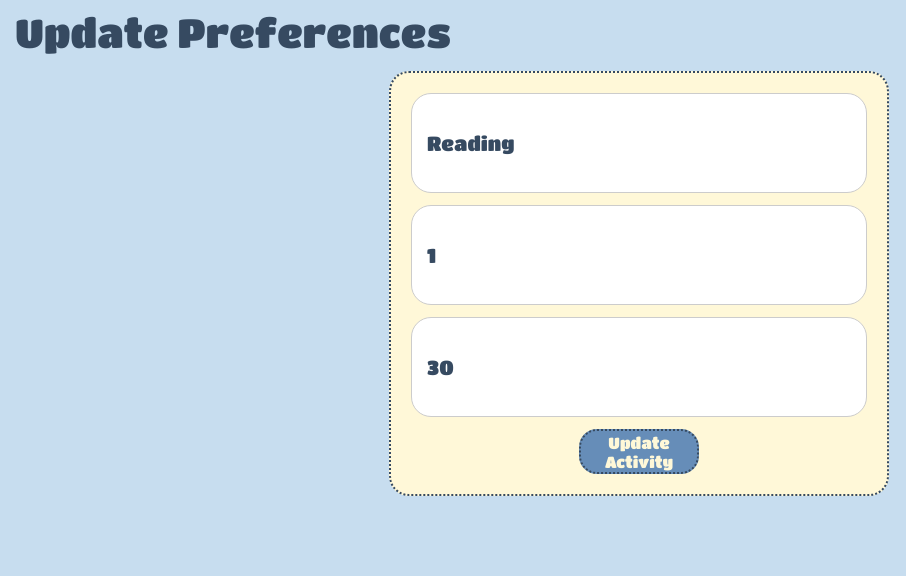
Test: Update Component › error handling with invalid inputs › shows error when empty fields are submitted
Clear the field with placeholder "Activity:" at point(639, 143), box [411,93,867,193]
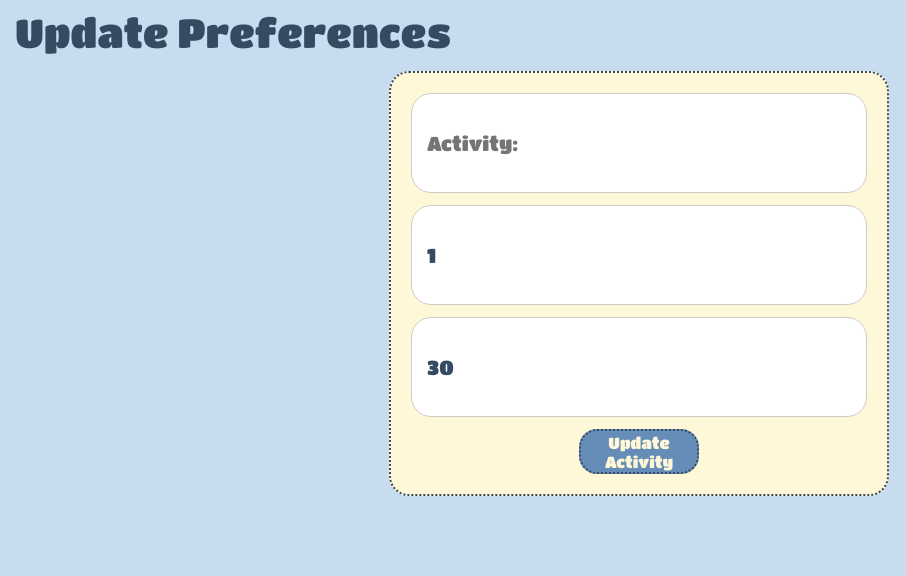
Clear the 1st number field with placeholder "Hours:" at point(639, 255), box [411,205,867,305]
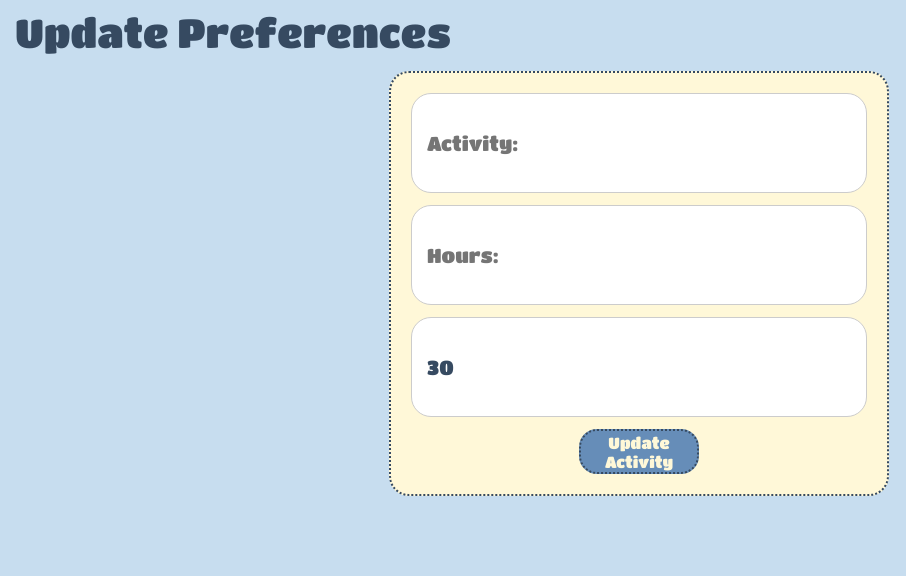
Clear the number field with placeholder "Minutes:" at point(639, 367), box [411,317,867,417]
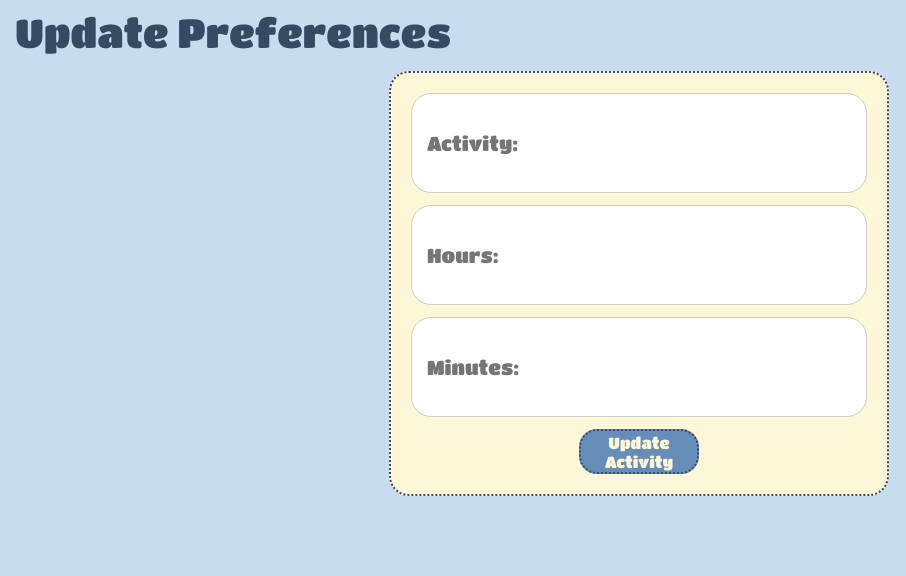
Click the button "Update Activity" at point(639, 452), box [579,429,699,474]
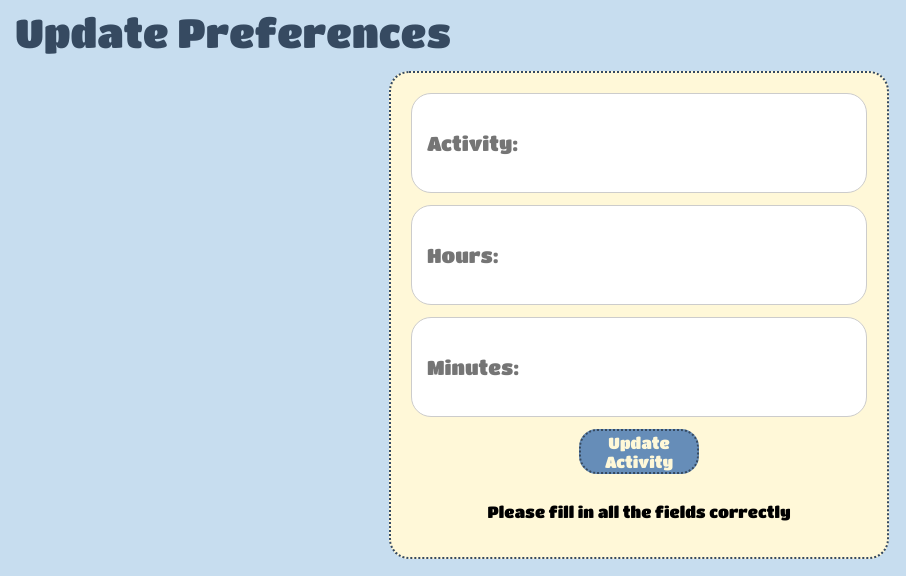
Check: the text "Please fill in all the fields correctly" is shown, box [488,502,790,521]
